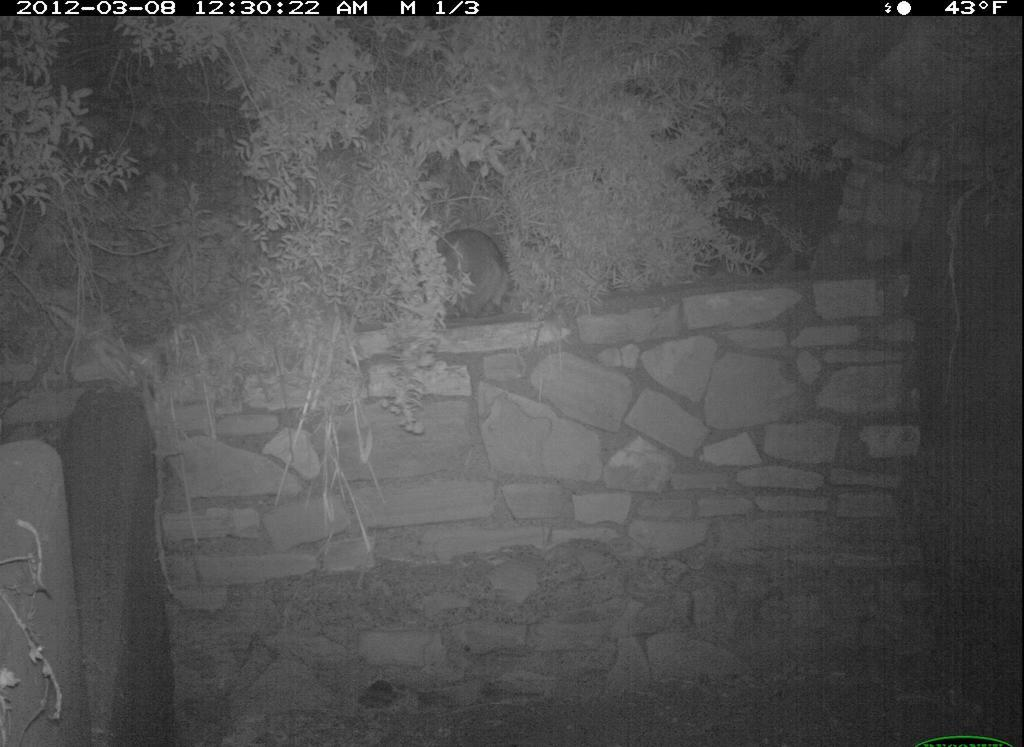raccoon: (392, 225, 515, 324)
